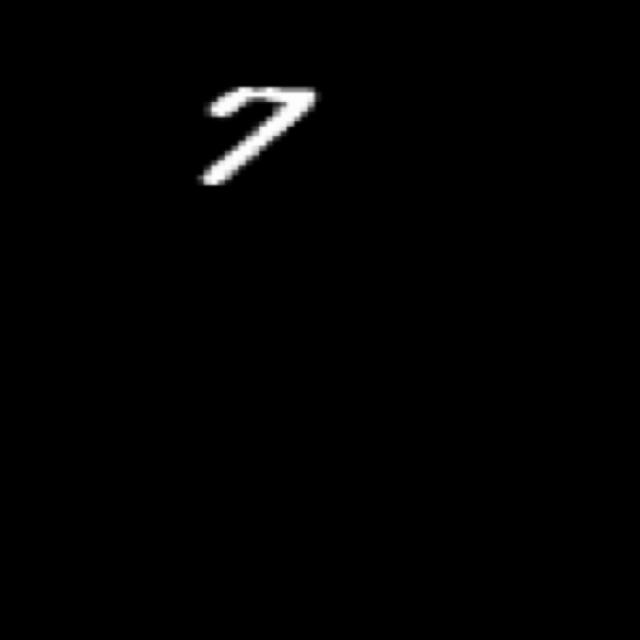seven -7-: (189, 84, 325, 194)
